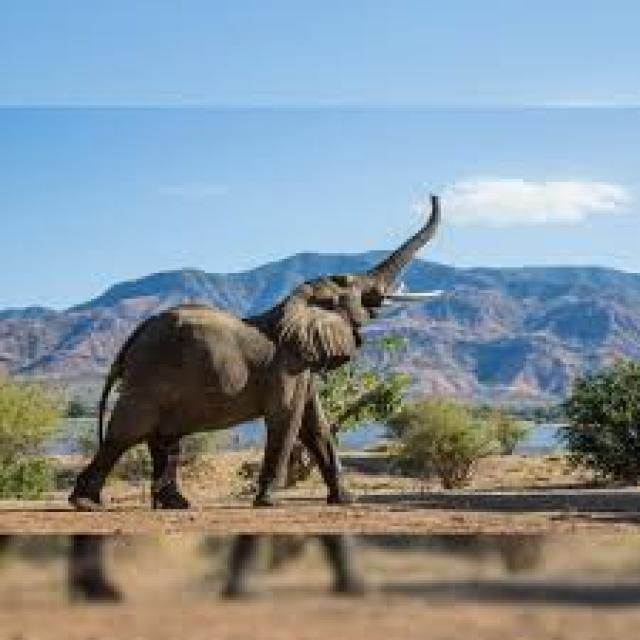Elephant: (0, 118, 476, 564)
